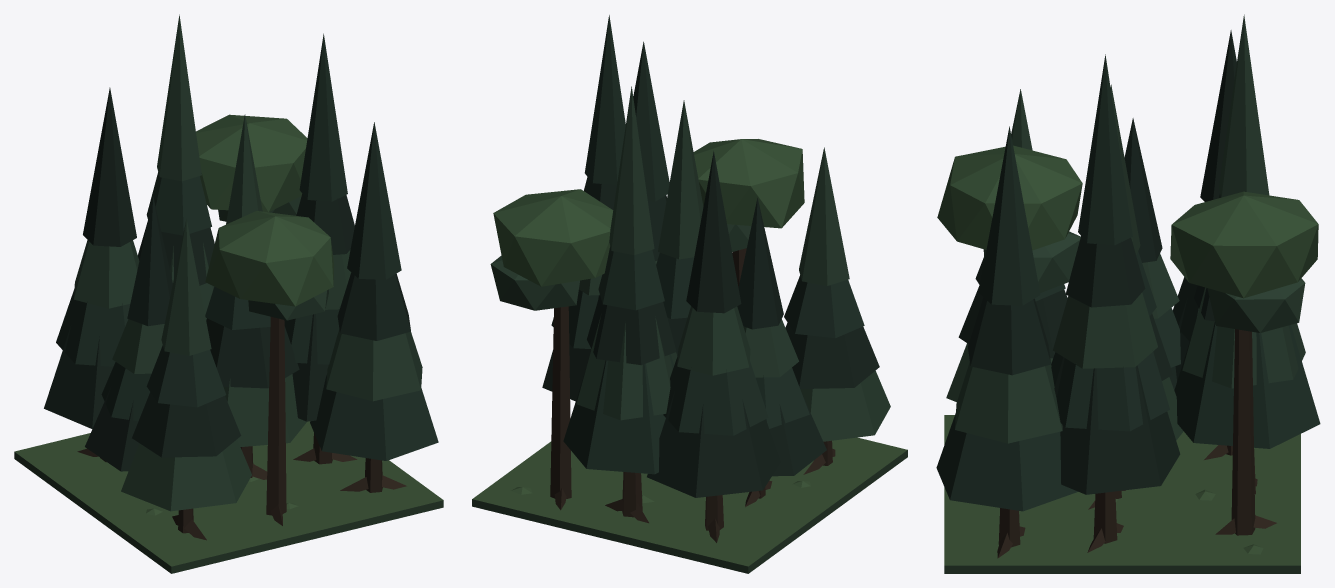
File: forest_4b.glb
3 renders of one model, left to right at view 1: azimuth 30°, elevation 25°; view 2: azimuth 150°, elevation 25°; view 3: azimuth 270°, elevation 25°, orthographic. The views are drawn at different scales.
Visible parts, largest first — view 1: forest_4b; view 2: forest_4b; view 3: forest_4b.
Boxes of the visible parts, box(x1,y1,x2,y2) form: forest_4b: box(14, 14, 443, 573); forest_4b: box(472, 15, 907, 573); forest_4b: box(936, 14, 1320, 573).
Size of the model in its own units: 4.28 by 5.96 by 4.2.
